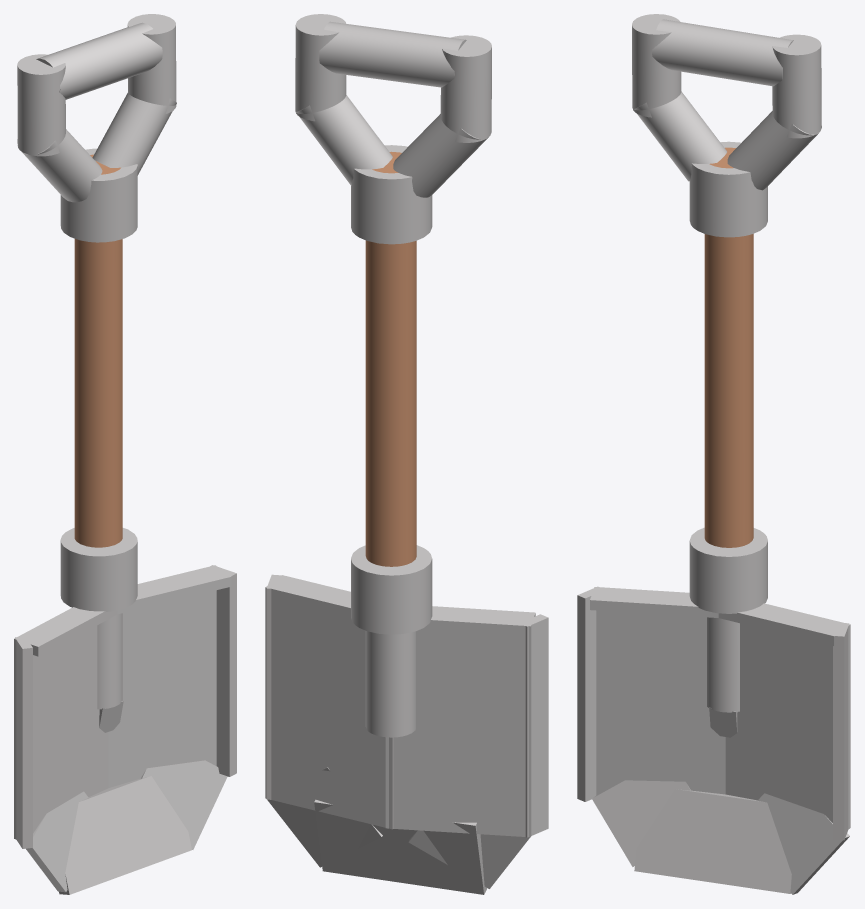
Rendered from ene_final.gltf.
3 renders of one model, left to right at view 1: azimuth 30°, elevation 25°; view 2: azimuth 150°, elevation 25°; view 3: azimuth 330°, elevation 25°, orthographic. The views are drawn at different scales.
Parts seen in each view (by area): view 1: Part (×18), Wedge; view 2: Part (×18); view 3: Part (×18), Wedge.
Part boxes in pixels (x1=…): Part (×18): x1=14, y1=14, x2=236, y2=894; Wedge: x1=99, y1=701, x2=123, y2=732; Part (×18): x1=265, y1=14, x2=548, y2=894; Part (×18): x1=577, y1=14, x2=850, y2=894; Wedge: x1=709, y1=707, x2=737, y2=737.
Size of the model in its own units: 1.27 by 4.17 by 0.5267.
